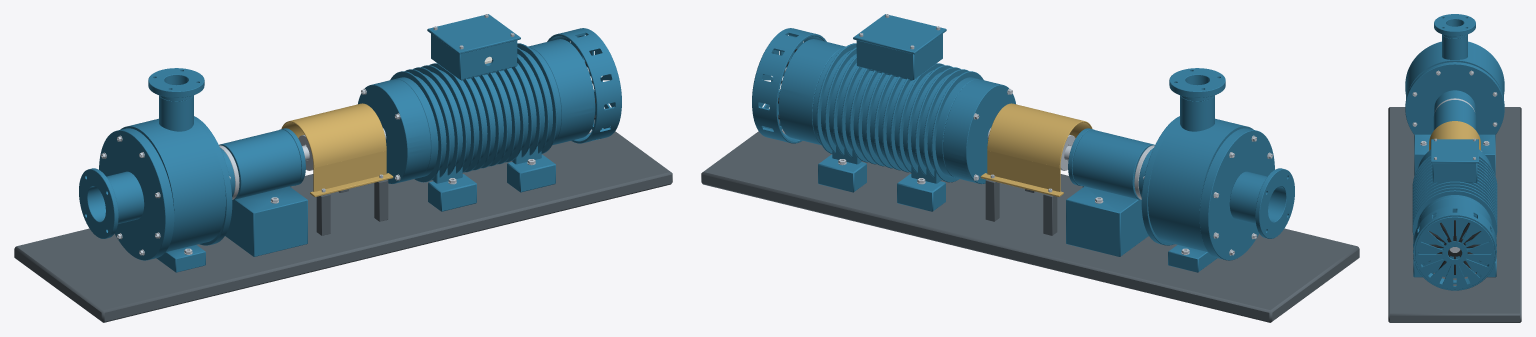
Rendered from pump-motor.glb.
3 renders of one model, left to right at view 1: azimuth 30°, elevation 25°; view 2: azimuth 150°, elevation 25°; view 3: azimuth 270°, elevation 25°, orthographic. The views are drawn at different scales.
Visible parts, largest first — view 1: Machined_baseplate, Motor_finned_housing, Volute_casing, Coupling_safety_guard, Suction_cover, Pump_support_pedestal, Motor_DE_end_shield, Pump_bearing_carrier, Motor_NDE_end_shield, Suction_nozzle_flange, Fan_cover, Motor_mounting_feet (+5 smaller); view 2: Machined_baseplate, Motor_finned_housing, Volute_casing, Coupling_safety_guard, Suction_cover, Pump_support_pedestal, Motor_DE_end_shield, Pump_bearing_carrier, Motor_NDE_end_shield, Suction_nozzle_flange, Fan_cover, Motor_mounting_feet (+5 smaller); view 3: Machined_baseplate, Fan_cover, Back_plate, Motor_finned_housing, Volute_casing, Motor_NDE_end_shield, Terminal_box_cover, Terminal_box_body, Pump_bearing_carrier, Discharge_neck_and_flange, Pump_support_pedestal, Coupling_safety_guard (+6 smaller).
Part boxes in pixels (x1,y1,x2,y2): Machined_baseplate: (14,119,672,322); Motor_finned_housing: (390,43,561,182); Volute_casing: (120,95,225,252); Coupling_safety_guard: (281,103,393,196); Suction_cover: (99,128,174,260); Pump_support_pedestal: (156,186,307,272); Motor_DE_end_shield: (358,79,430,183); Pump_bearing_carrier: (219,129,301,199); Motor_NDE_end_shield: (528,39,595,145); Suction_nozzle_flange: (79,168,144,238); Fan_cover: (547,28,621,143); Motor_mounting_feet: (428,146,555,211); Machined_baseplate: (701,119,1359,322); Motor_finned_housing: (812,43,983,182); Volute_casing: (1148,95,1253,252); Coupling_safety_guard: (980,103,1092,196); Suction_cover: (1199,128,1274,260); Pump_support_pedestal: (1066,186,1217,272); Motor_DE_end_shield: (943,79,1015,183); Pump_bearing_carrier: (1072,129,1154,199); Motor_NDE_end_shield: (778,39,845,145); Suction_nozzle_flange: (1229,168,1294,238); Fan_cover: (752,28,826,143); Motor_mounting_feet: (818,146,945,211); Machined_baseplate: (1388,107,1521,322); Fan_cover: (1413,206,1496,290); Back_plate: (1405,62,1504,134); Motor_finned_housing: (1412,155,1497,236); Volute_casing: (1406,34,1503,98); Motor_NDE_end_shield: (1417,197,1492,278); Terminal_box_cover: (1431,139,1478,163); Terminal_box_body: (1432,163,1477,183); Pump_bearing_carrier: (1433,100,1476,130); Discharge_neck_and_flange: (1434,14,1475,38); Pump_support_pedestal: (1414,134,1495,175); Coupling_safety_guard: (1429,121,1480,150).
Size of the model in its own units: 1.88 by 0.575 by 0.51.
